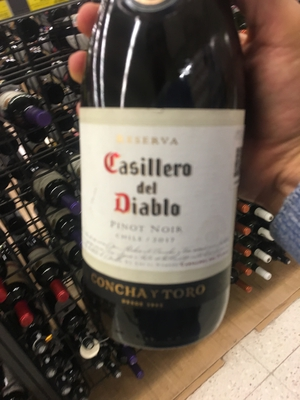casillero del diablo pinot noir: (59, 12, 259, 331)
